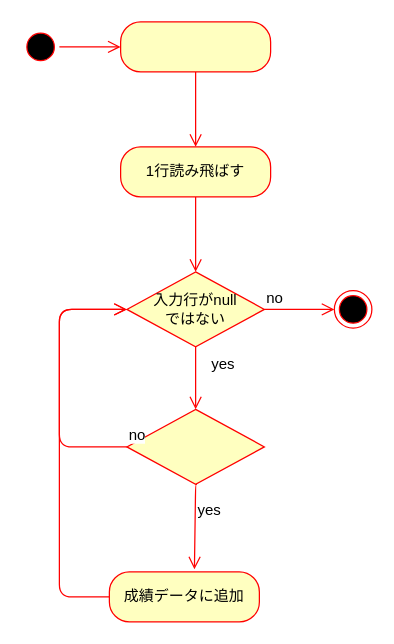
The diagram is 394 pixels wide and 644 high, and some of its shapes have lost their labels. The centre of each missing label's shape, as x and y in pixels:
"fileを開く" belongs at (195,46).
"正規表現に マッチする" belongs at (195,446).
